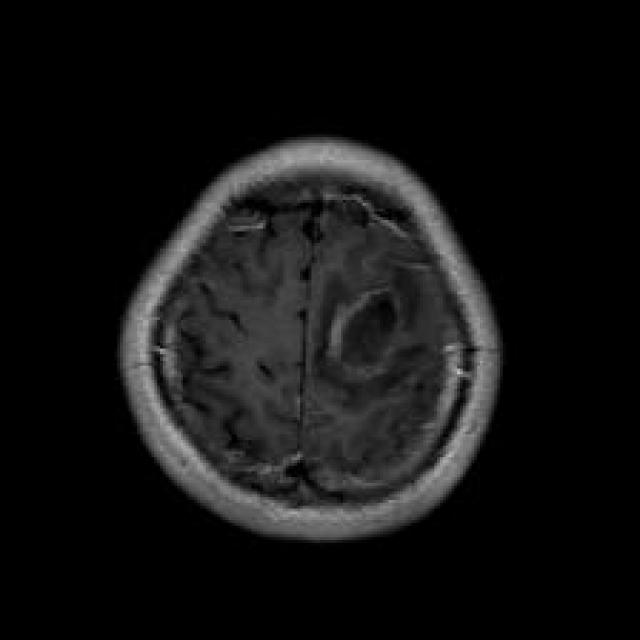glioma_tumor: (314, 276, 416, 398)
